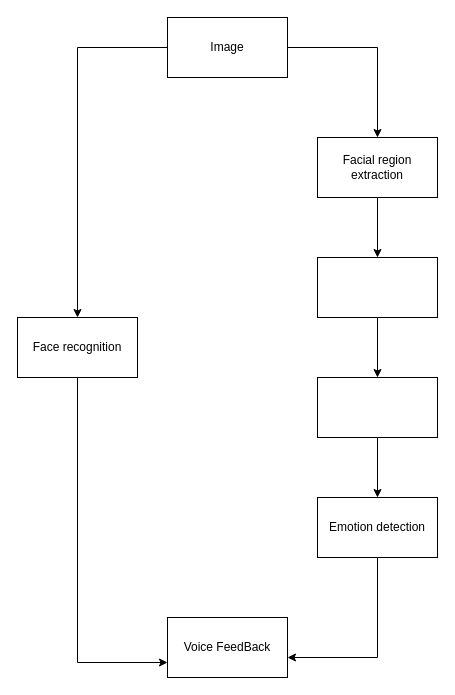
Some shapes in this 455 by 695 pixel diagram are drawn without their labels. The centre of each missing label's shape, as x and y in pixels:
"Facial component extraction" goes at pixel 377 287.
"Feature extraction" goes at pixel 377 407.
